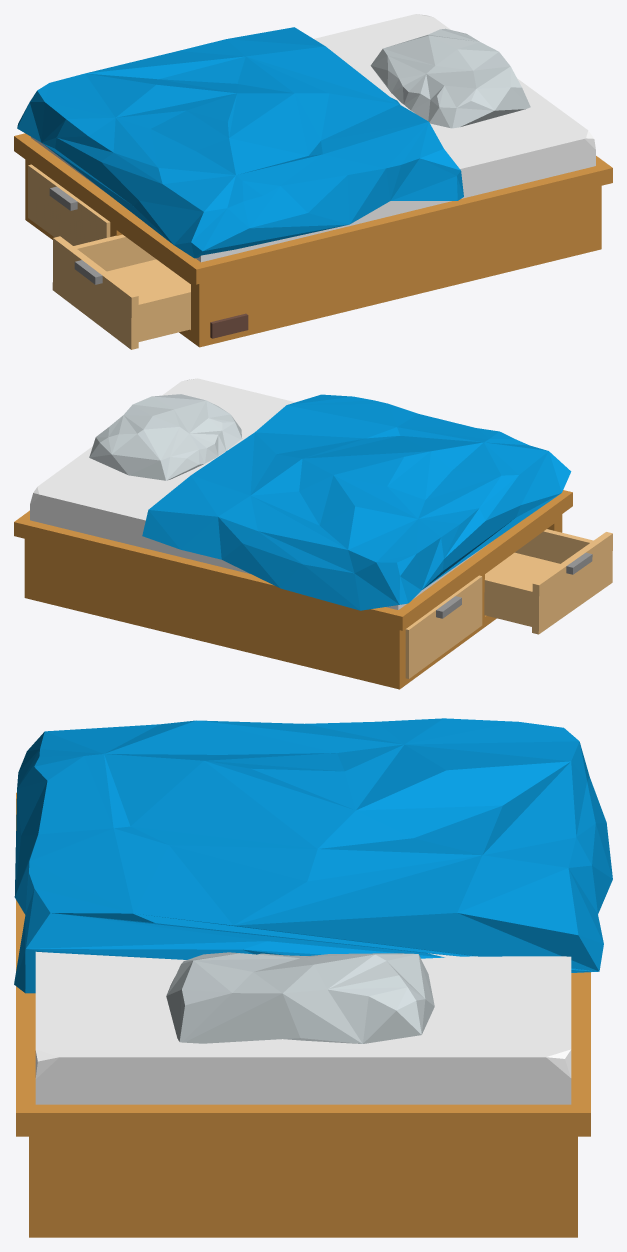
The model's file is Bed.glb.
3 renders of one model, top to bottom at view 1: azimuth 30°, elevation 25°; view 2: azimuth 150°, elevation 25°; view 3: azimuth 270°, elevation 25°, orthographic. The views are drawn at different scales.
Parts seen in each view (by area): view 1: group650785582, group873723508, group226031731, group1163561573, group1793700176, group1608457623, group1022306024, group1998901131; view 2: group650785582, group873723508, group226031731, group1163561573, group1793700176, group1608457623, group1022306024; view 3: group650785582, group226031731, group873723508, group1163561573, group1608457623.
Boxes of the visible parts, x1,y1,x2,y2 form: group650785582: (17,27,463,258); group873723508: (25,159,601,347); group226031731: (31,14,595,262); group1163561573: (14,133,612,284); group1793700176: (52,234,190,349); group1608457623: (370,28,530,128); group1022306024: (28,164,110,245); group1998901131: (210,313,248,338); group650785582: (142,394,571,610); group873723508: (24,514,562,689); group226031731: (30,378,489,609); group1163561573: (14,490,572,630); group1793700176: (484,529,612,634); group1608457623: (89,394,242,480); group1022306024: (405,575,482,678); group650785582: (14,718,612,993); group226031731: (35,951,571,1104); group873723508: (29,1136,577,1237); group1163561573: (16,792,590,1136); group1608457623: (166,952,434,1043).
Size of the model in its own units: 0.665 by 0.1988 by 0.4584.
